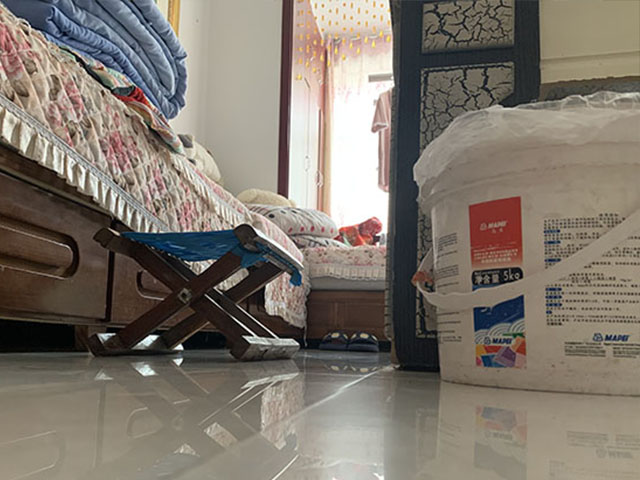slippers: (348, 330, 381, 353), (320, 329, 353, 352)
sofa: (1, 7, 310, 350)
stool: (84, 221, 306, 363)
